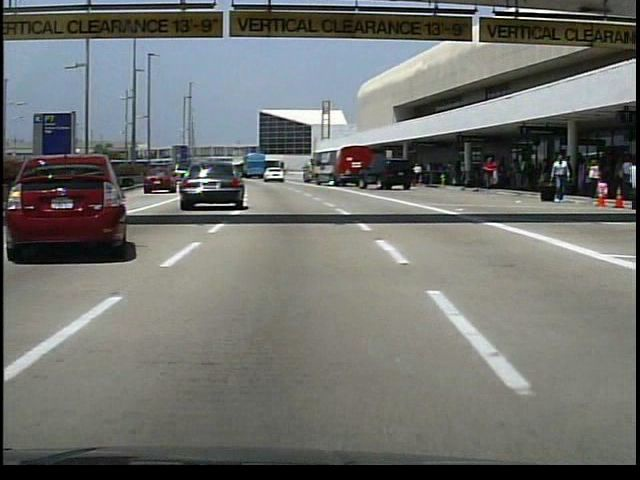person: (545, 152, 571, 202), (481, 155, 500, 189), (519, 154, 534, 189), (454, 157, 465, 186), (412, 163, 424, 188)
